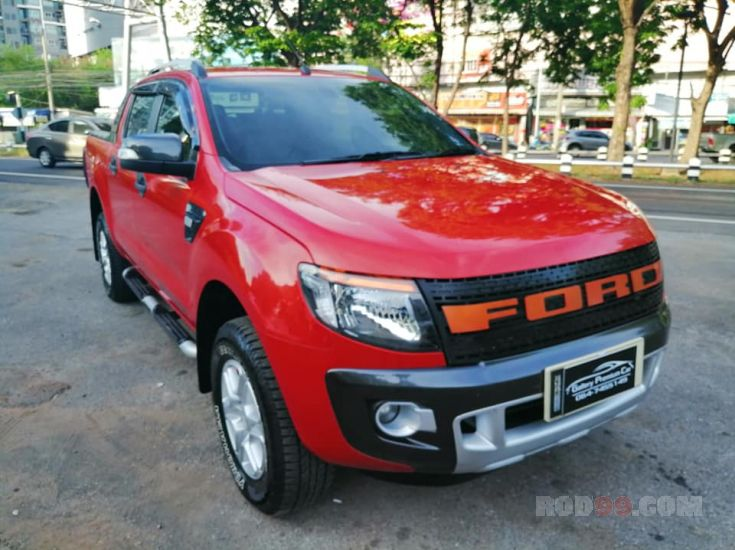pickup: (82, 58, 673, 494)
